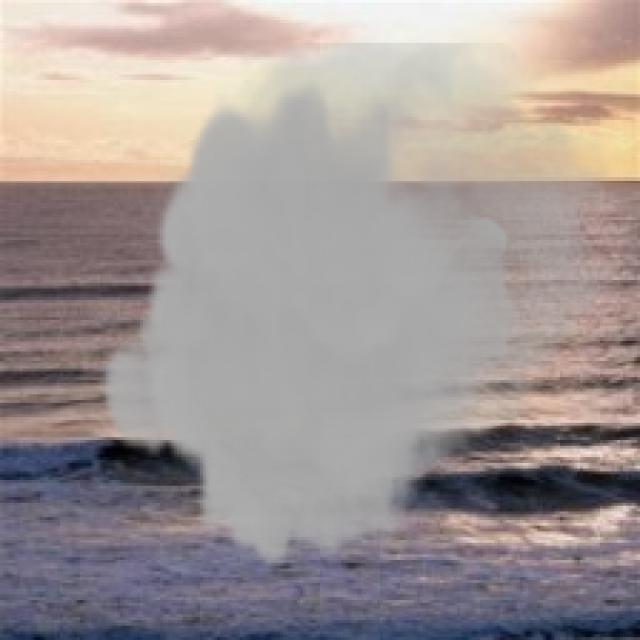Smoke: (97, 42, 626, 572)
